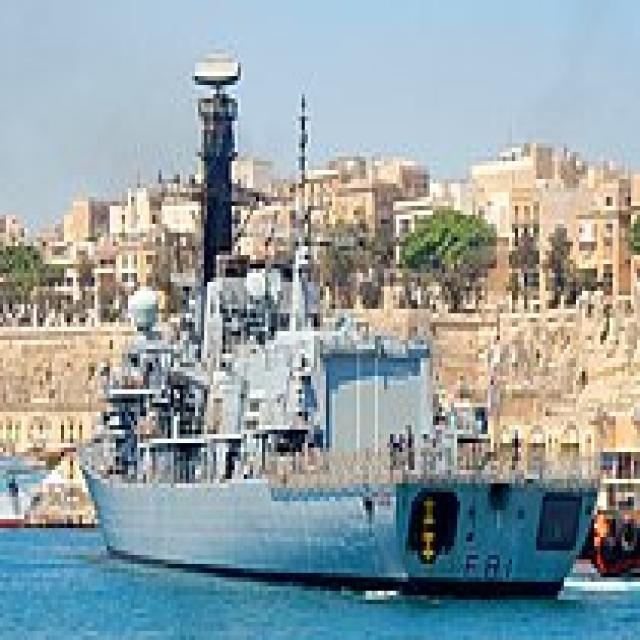Warship: (73, 45, 597, 600)
